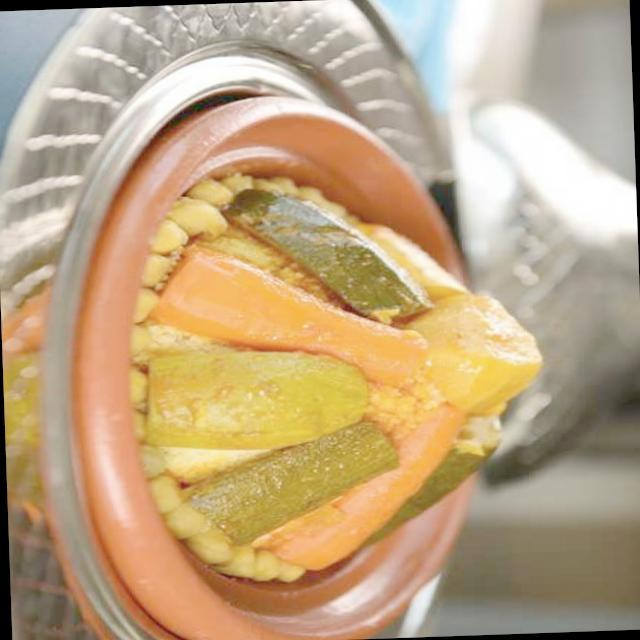Couscous: (79, 86, 552, 640)
